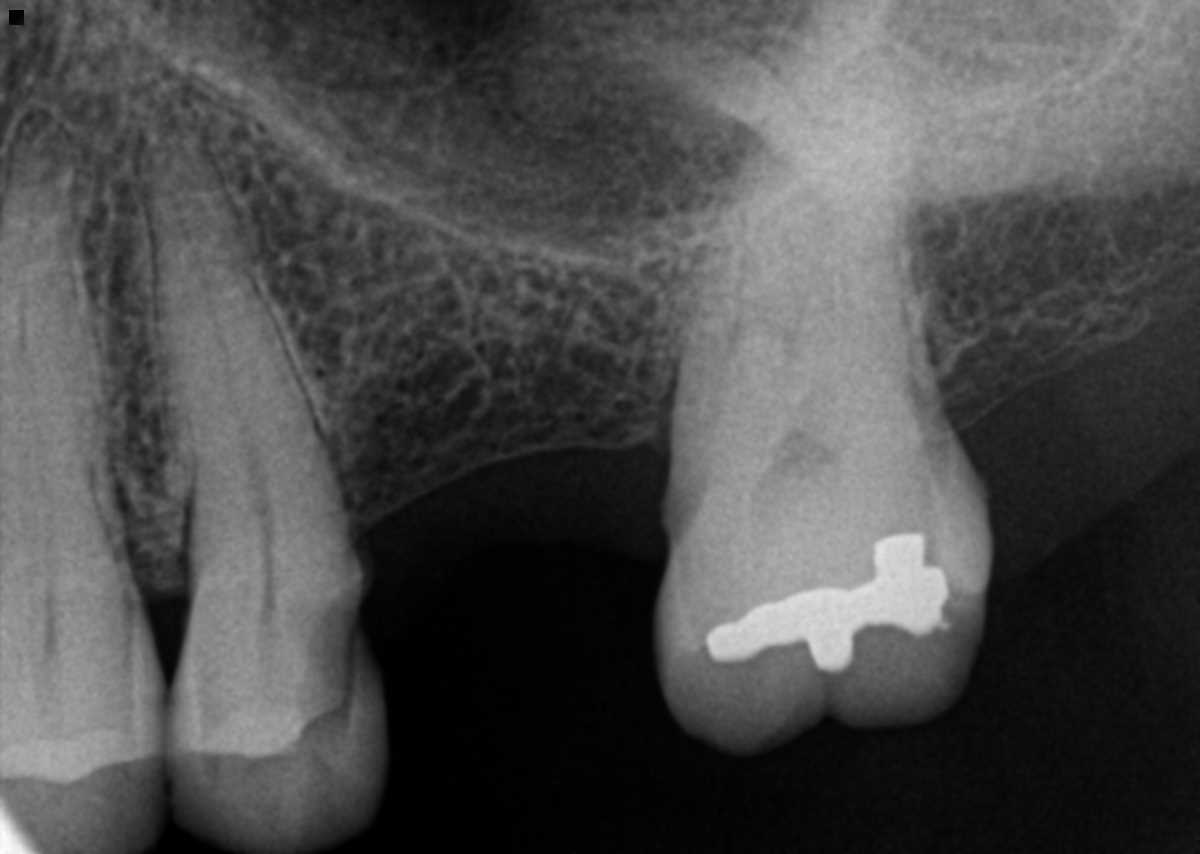Distal Root: (787, 71, 907, 378)
Main Canal: (156, 151, 274, 560), (19, 197, 55, 580)
Main Root: (141, 117, 355, 564), (0, 123, 136, 583)
Mesial Root: (670, 153, 844, 431)
Palatal Root: (719, 0, 945, 466)
decay: (284, 567, 365, 766)
